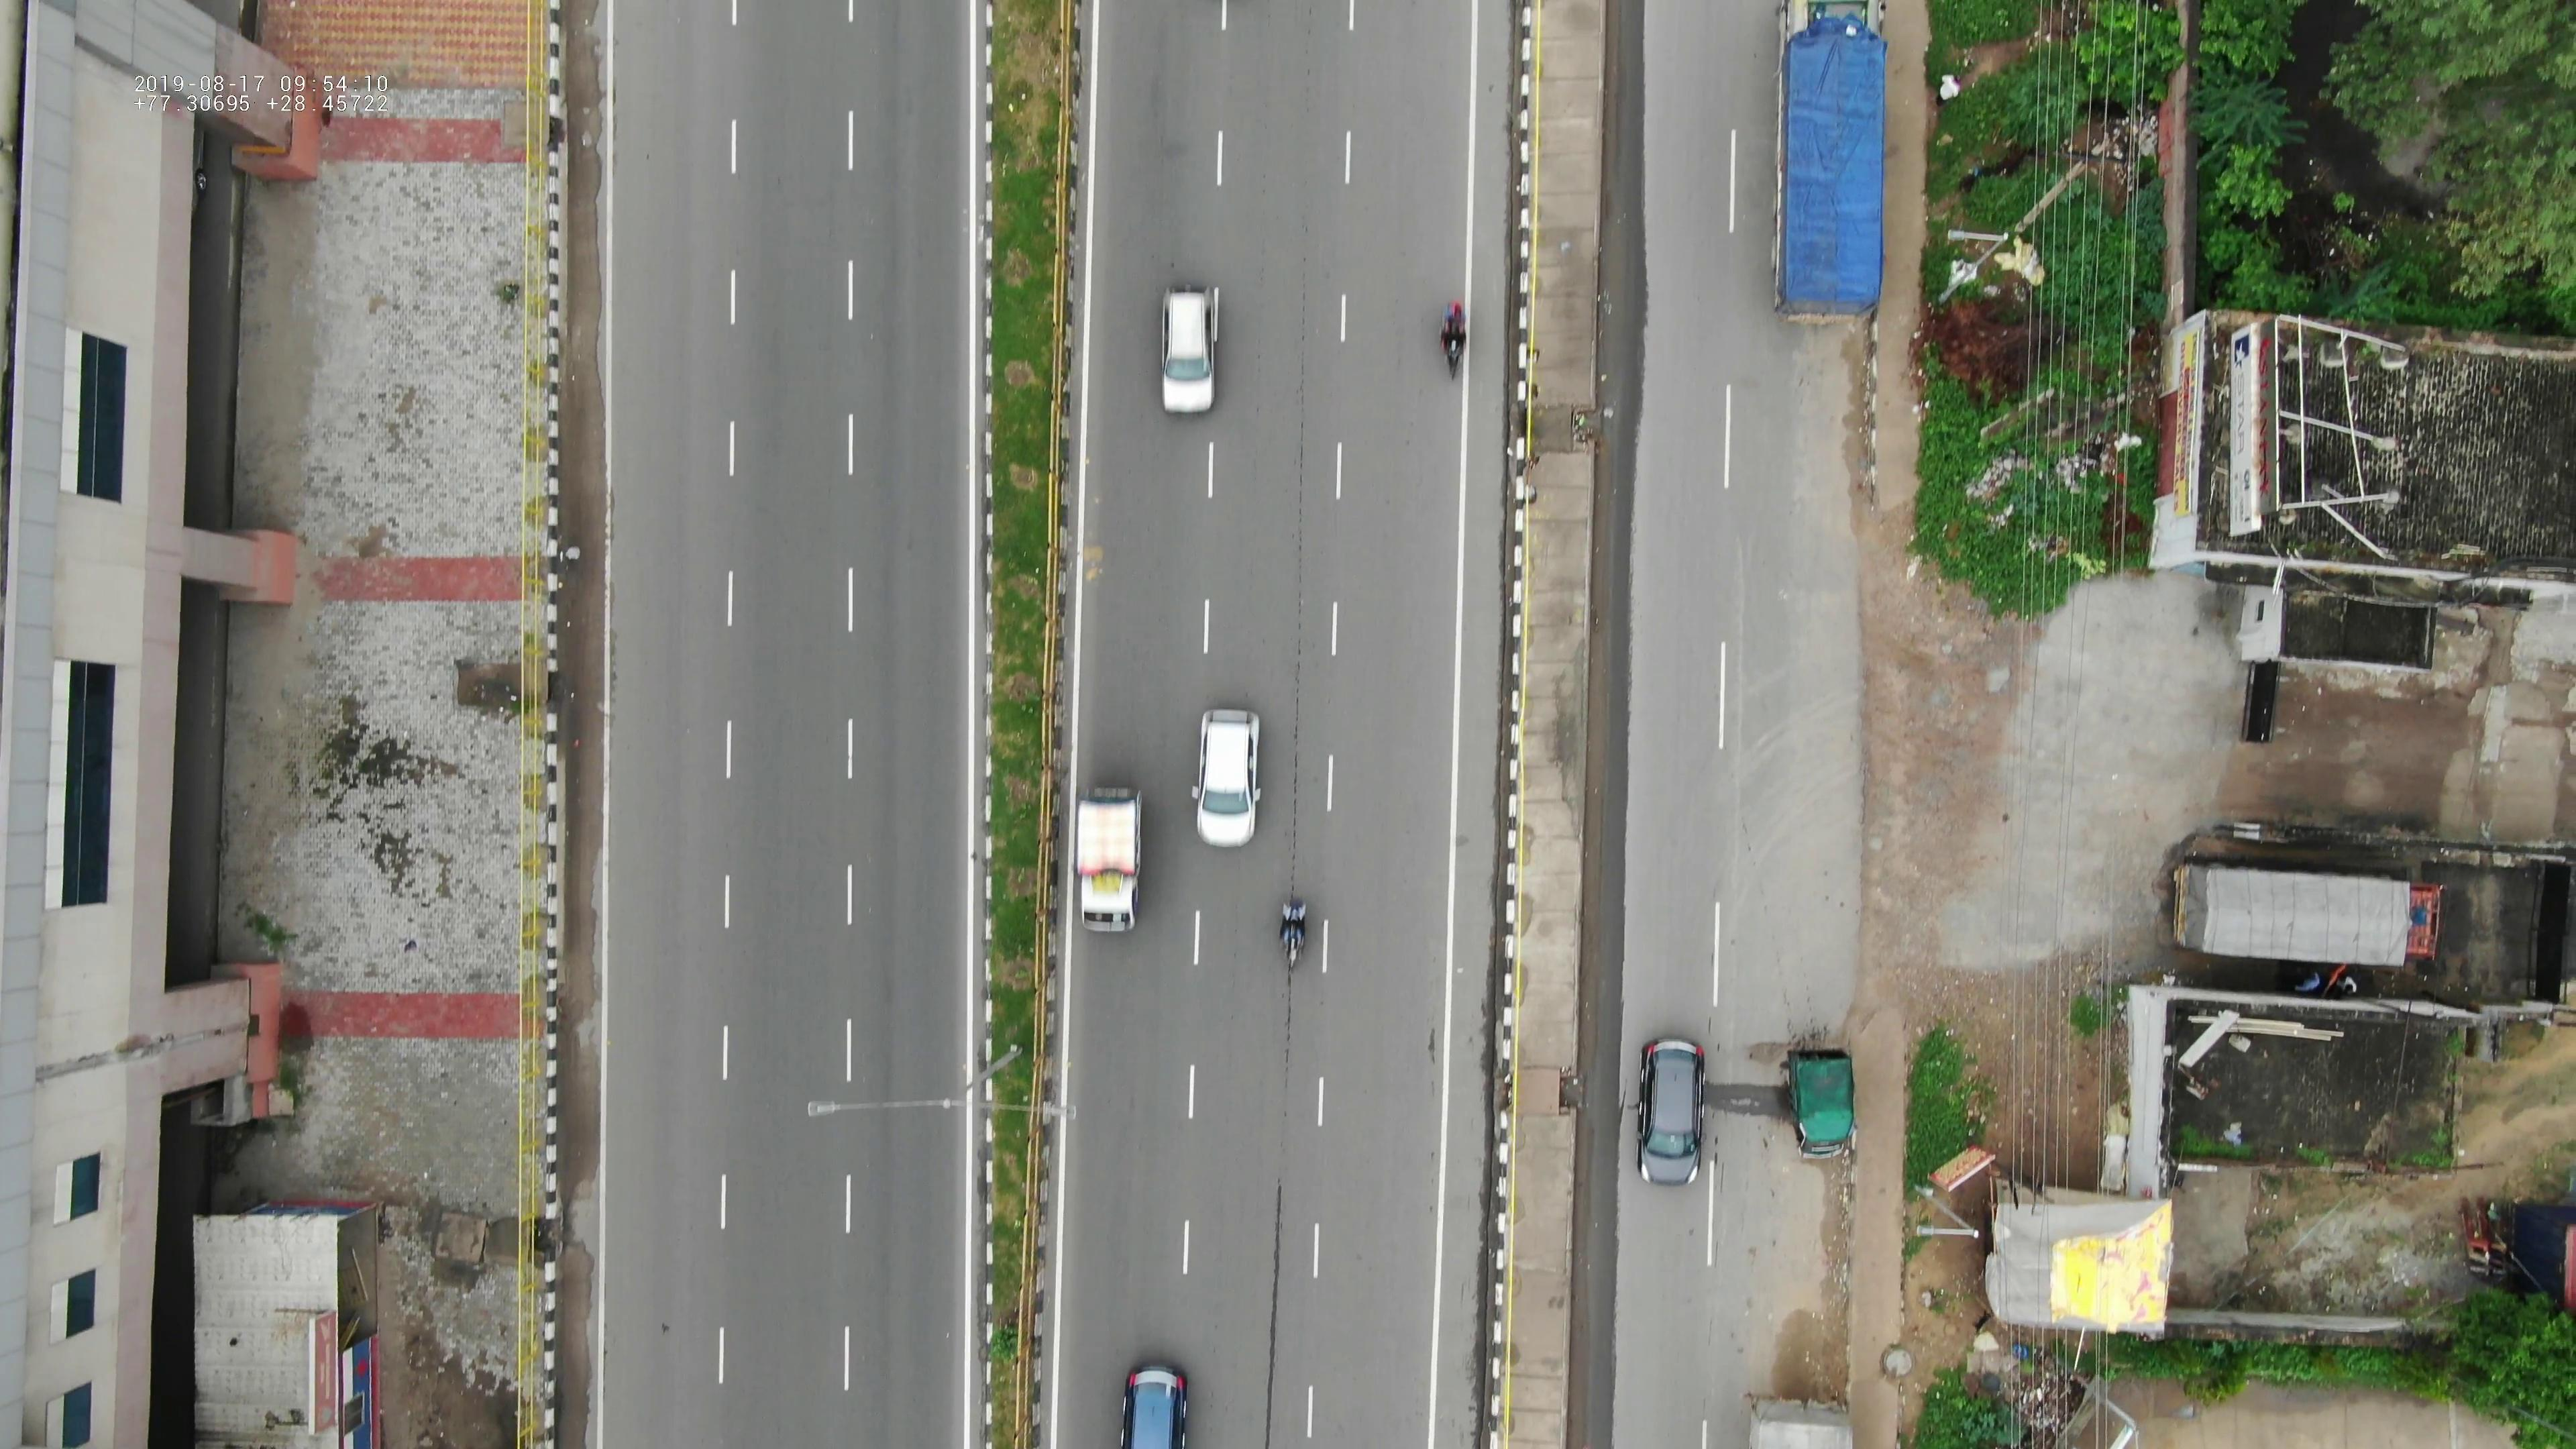Muddy_road: (548, 442, 616, 732), (550, 180, 610, 430)
